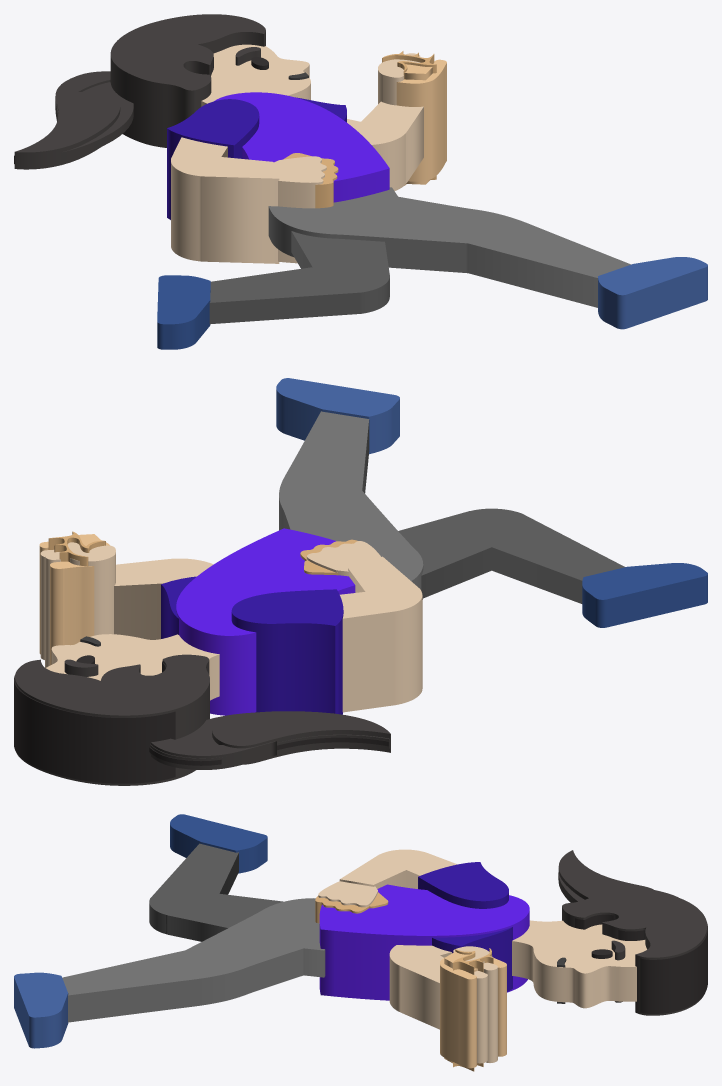
File: emoji_u1f3c3_1f3fb_200d_2640_200d_27a1.glb
3 views of the same model, one above another, from view 1: azimuth 30°, elevation 25°; view 2: azimuth 150°, elevation 25°; view 3: azimuth 270°, elevation 25° (orthographic). The views are drawn at different scales.
Parts seen in each view (by area): view 1: emoji_u1f3c3_1f3fb_200d_2640_200d_27a1; view 2: emoji_u1f3c3_1f3fb_200d_2640_200d_27a1; view 3: emoji_u1f3c3_1f3fb_200d_2640_200d_27a1.
Part boxes in pixels (left/top/right/bottom): emoji_u1f3c3_1f3fb_200d_2640_200d_27a1: left=14, top=14, right=707, bottom=349; emoji_u1f3c3_1f3fb_200d_2640_200d_27a1: left=14, top=378, right=707, bottom=785; emoji_u1f3c3_1f3fb_200d_2640_200d_27a1: left=14, top=814, right=707, bottom=1071.
Size of the model in its own units: 0.023 by 0.0054 by 0.0325.
